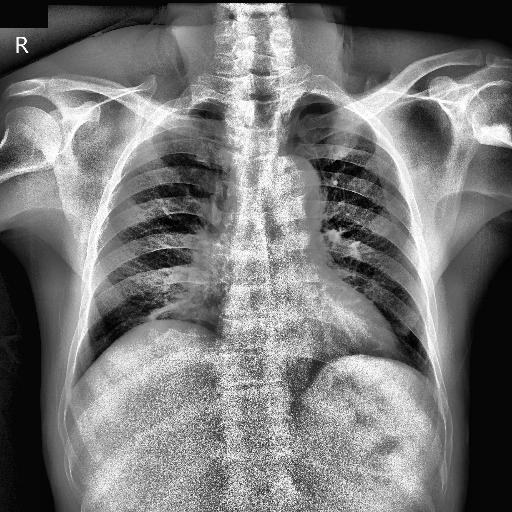0- Aortic enlargement: (268, 152, 322, 235), (260, 156, 324, 224), (270, 154, 322, 230)
3- Cardiomegaly: (188, 288, 402, 368), (198, 294, 402, 362)
7- Lung Opacity: (186, 248, 224, 318), (184, 250, 218, 321)
